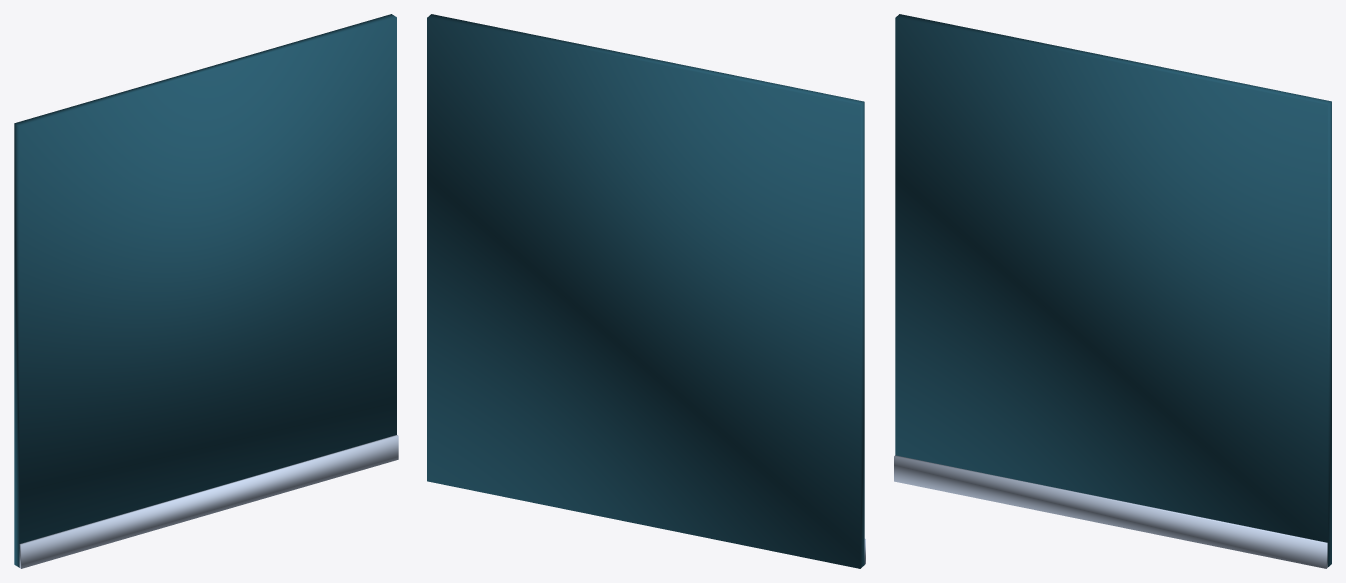
The picture shows the model from 3 angles, left to right: view 1: azimuth 30°, elevation 25°; view 2: azimuth 150°, elevation 25°; view 3: azimuth 330°, elevation 25°; orthographic projection. The views are drawn at different scales.
Visible parts, largest first — view 1: Wall, Baseboard; view 2: Wall; view 3: Wall, Baseboard.
Part boxes in pixels (box(x1,y1,x2,y2)): Wall: box(14, 14, 396, 567); Baseboard: box(19, 435, 398, 568); Wall: box(427, 14, 864, 568); Wall: box(895, 14, 1331, 567); Baseboard: box(894, 455, 1327, 568).
Size of what is drawn, in the model's own units: 2.42 by 2.58 by 0.2516.
